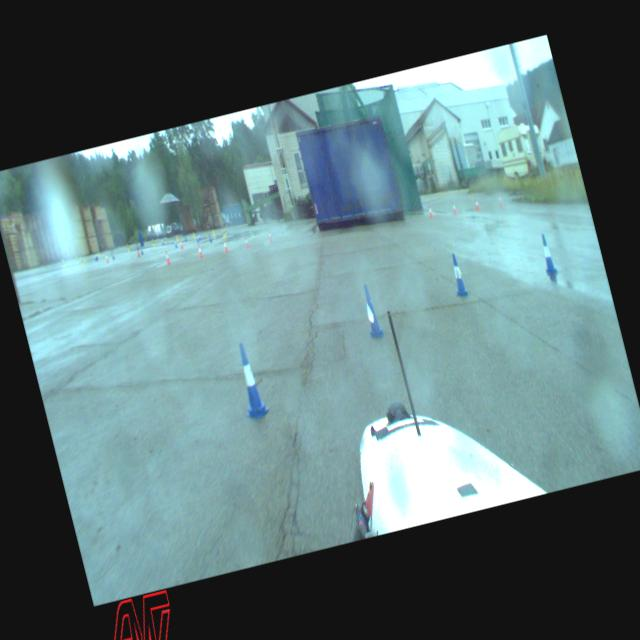blue_cone: (230, 340, 270, 420), (357, 282, 384, 339), (446, 252, 468, 297), (538, 233, 558, 275), (172, 237, 178, 248), (208, 232, 212, 242), (195, 234, 199, 243), (197, 232, 200, 240)
orange_cone: (162, 249, 170, 264), (450, 201, 458, 215), (496, 193, 504, 207), (222, 238, 228, 252), (196, 244, 202, 257), (427, 204, 433, 217), (104, 252, 110, 263), (474, 198, 479, 210), (244, 237, 249, 248), (178, 238, 183, 249), (268, 230, 272, 242), (136, 246, 140, 256)
